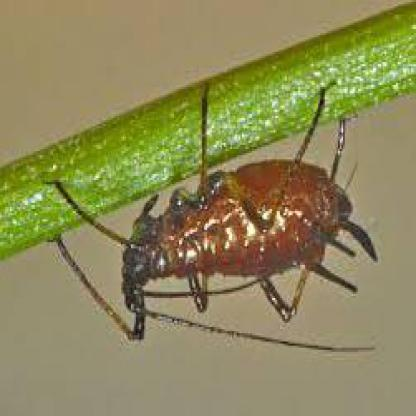uroleucon compositae: (90, 119, 376, 343)
